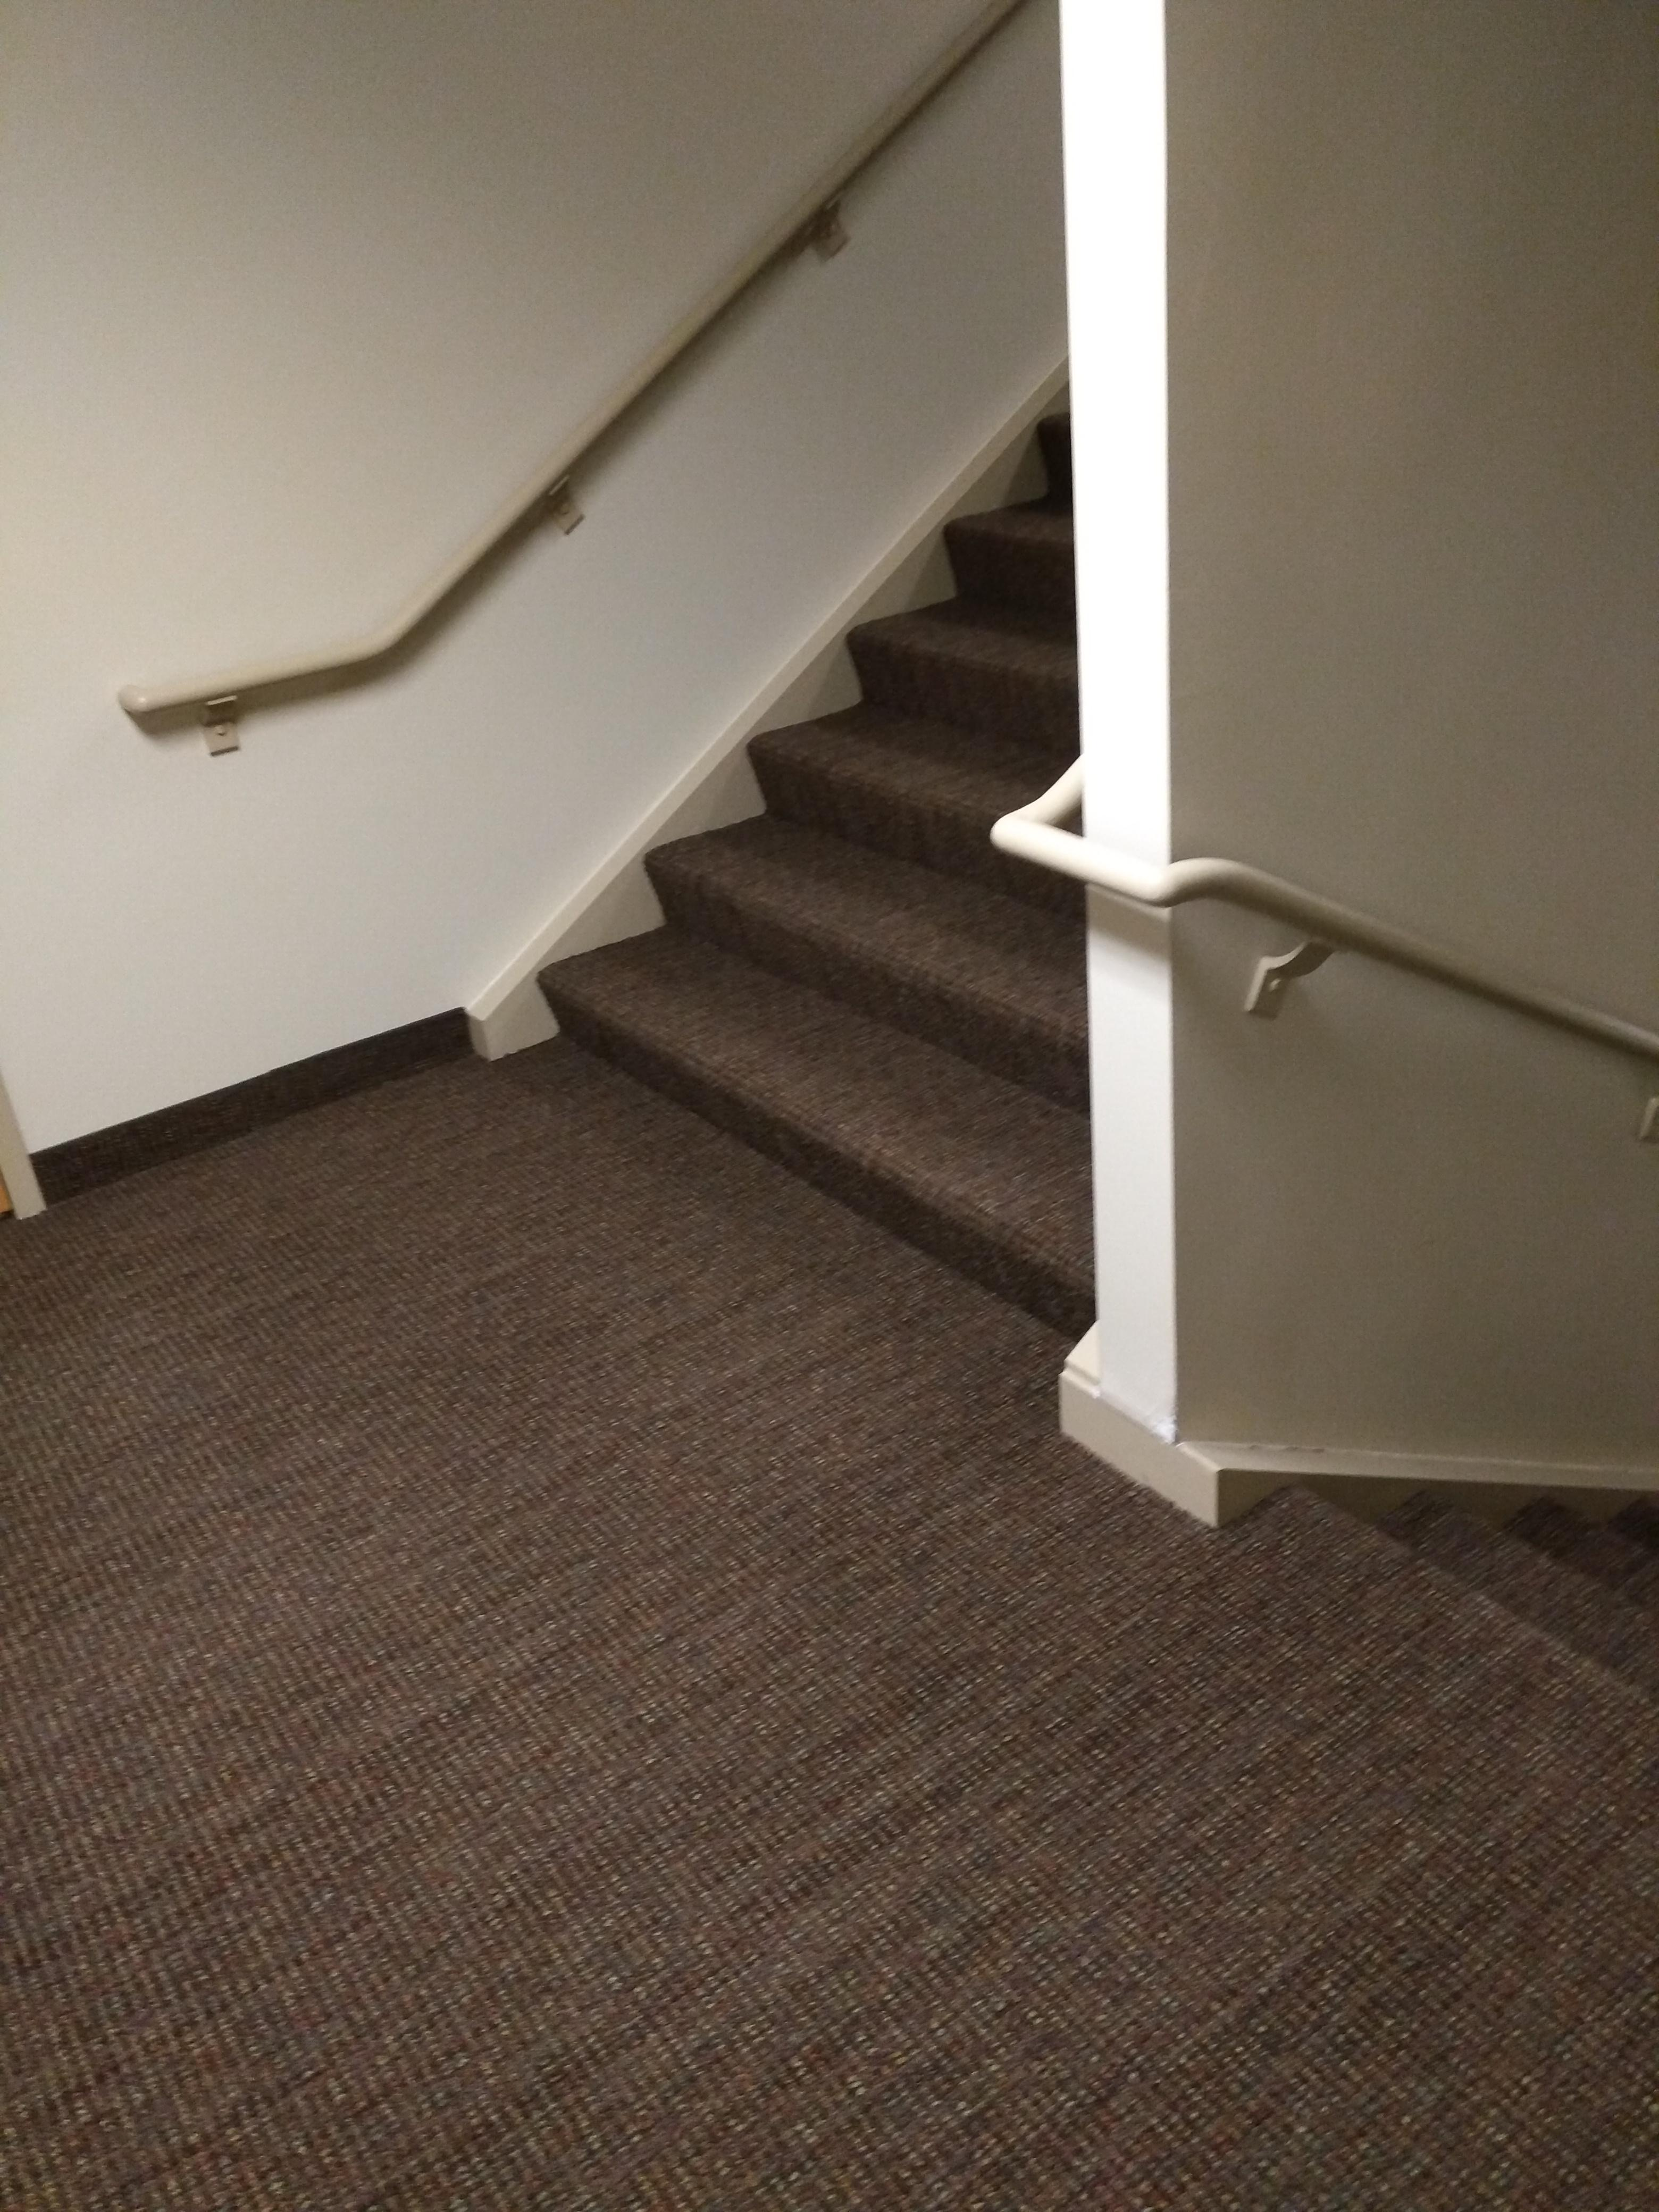stairs_down: (1115, 1416, 1647, 1811)
stairs_up: (437, 408, 1154, 1352)
